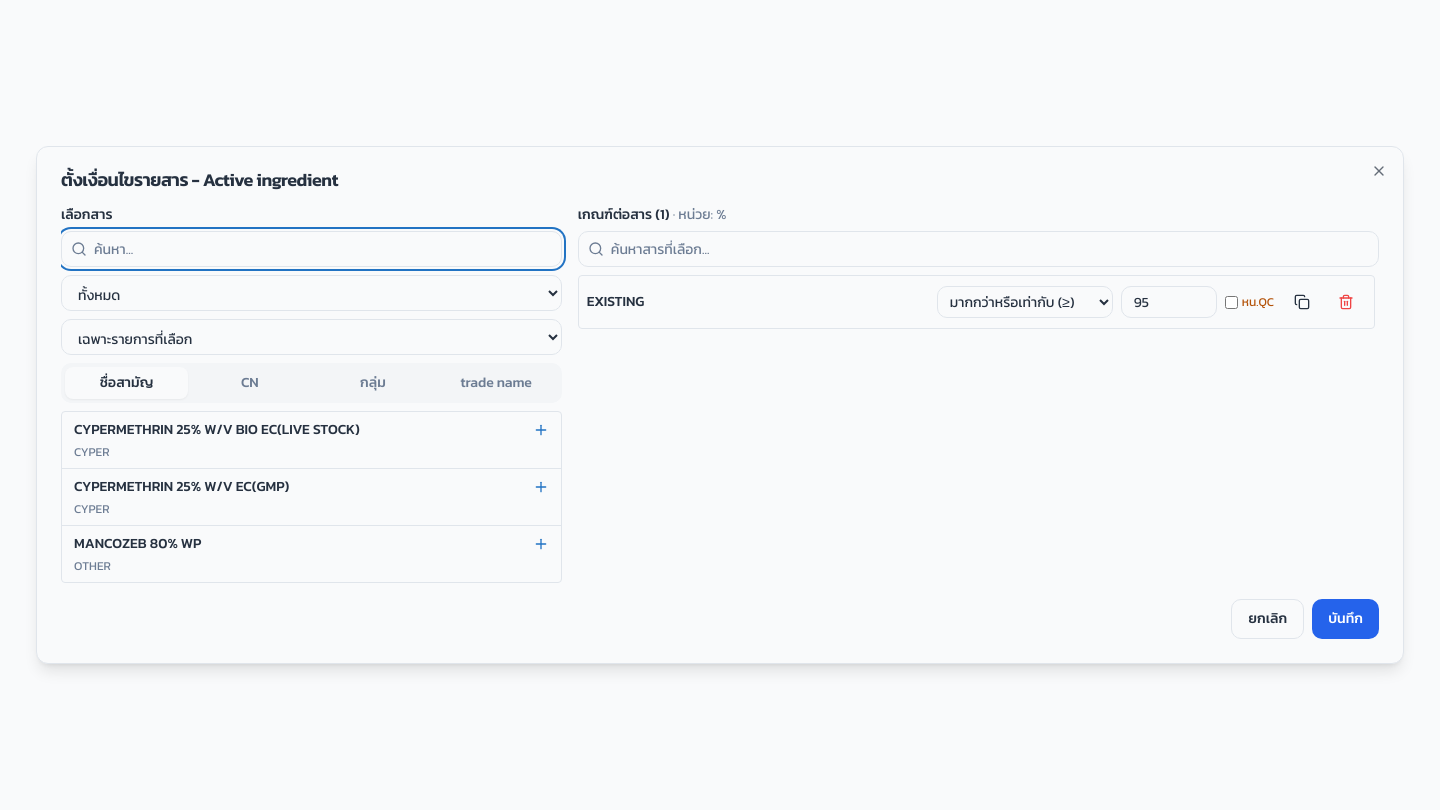
Test case: SubstanceStandardsDialog › focuses and scrolls to a newly added standard so users can type continuously
Click the button "CYPERMETHRIN 25% W/V BIO EC(LIVE STOCK) CYPER": (311, 440) [62,412,561,468]
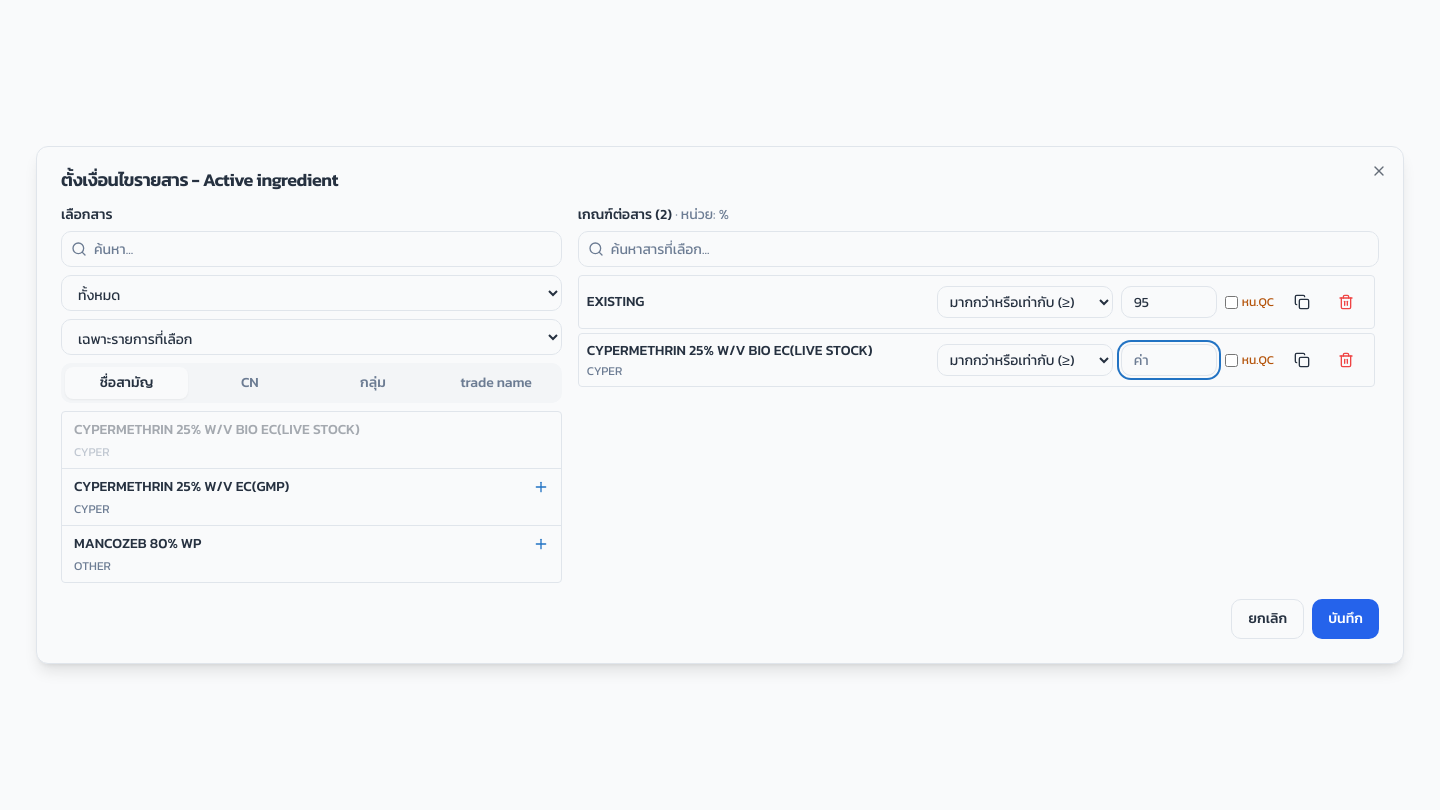
Expected: the number field named "CYPERMETHRIN 25% W/V BIO EC(LIVE STOCK)" is shown, [1121,344,1217,376]
